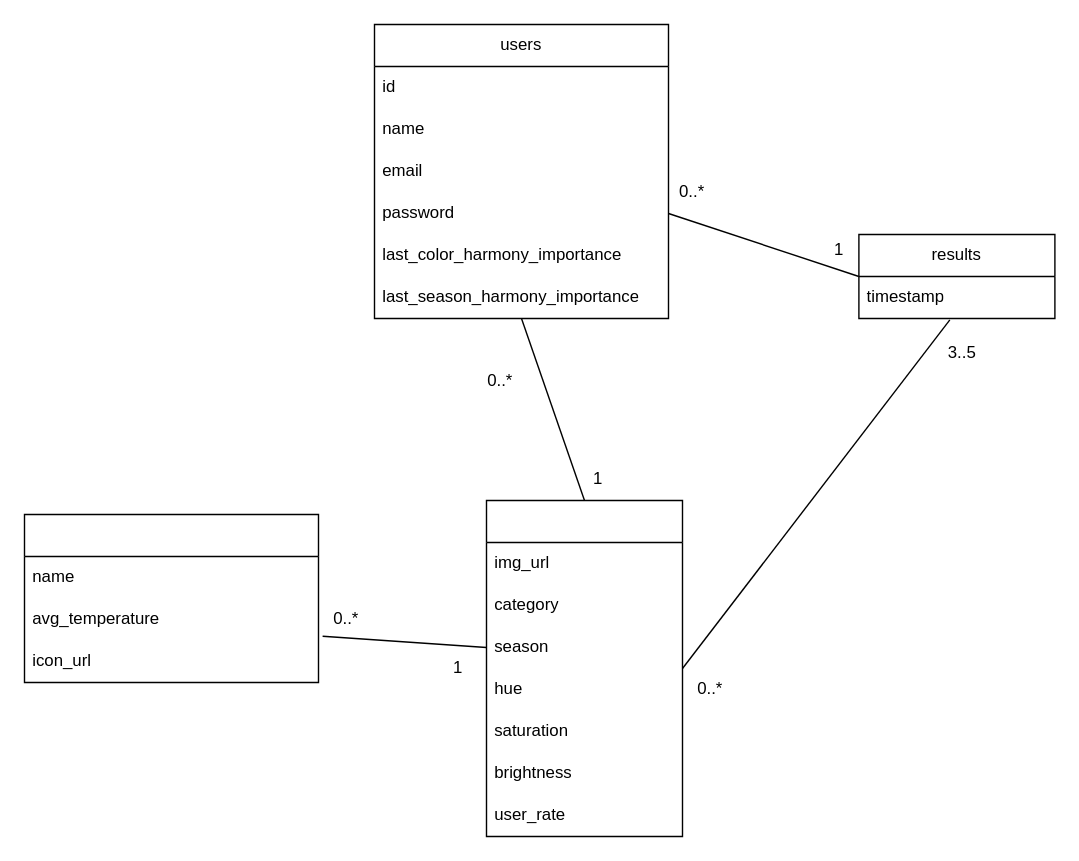
The diagram is 1079 pixels wide and 861 high, and some of its shapes have lost their labels. Each missing label, with the box of its shape:
clothes: (485, 499, 682, 836)
seasons: (23, 513, 318, 682)
